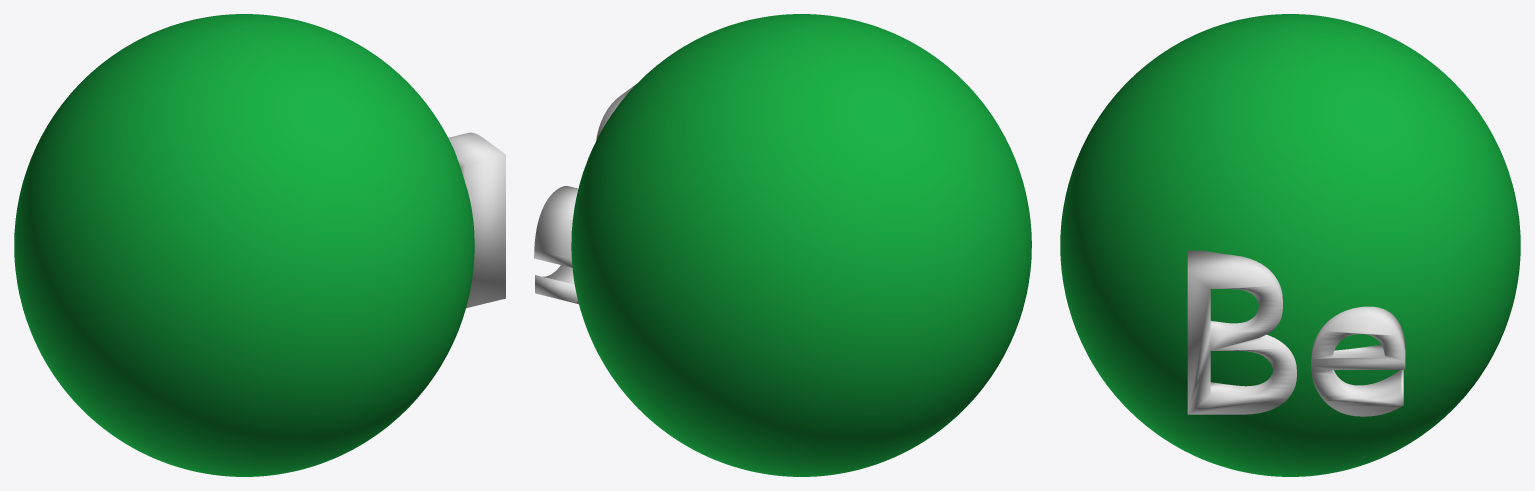
Rendered from Beryllium.fbx.
3 renders of one model, left to right at view 1: azimuth 30°, elevation 25°; view 2: azimuth 150°, elevation 25°; view 3: azimuth 270°, elevation 25°, orthographic.
Parts seen in each view (by area): view 1: Sphere, Text; view 2: Sphere, Text; view 3: Sphere, Text.
Part boxes in pixels (x1,y1,x2,y2): Sphere: [14, 14, 474, 476]; Text: [448, 132, 505, 308]; Sphere: [571, 14, 1031, 476]; Text: [534, 84, 636, 304]; Sphere: [1060, 14, 1520, 476]; Text: [1187, 250, 1405, 416].
Size of the model in its own units: 203 by 200 by 197.
